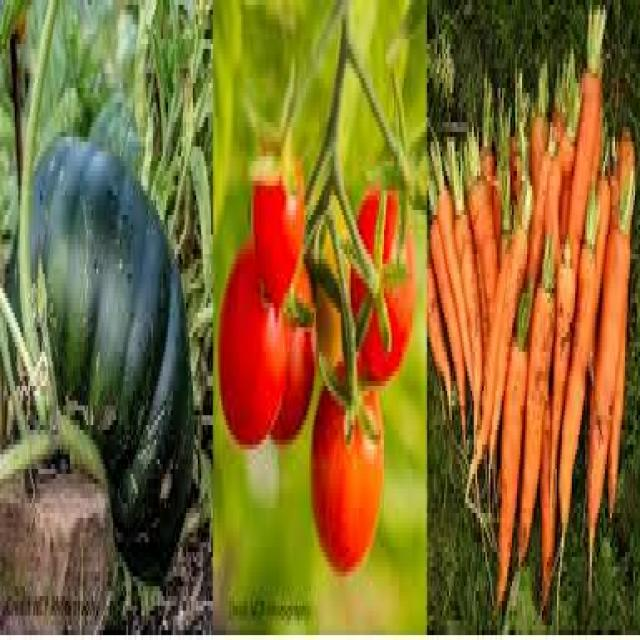organic waste: (8, 127, 191, 581), (585, 166, 638, 596), (309, 352, 381, 566), (216, 235, 286, 450), (464, 161, 508, 484), (486, 176, 530, 498), (559, 176, 595, 532), (349, 186, 414, 381), (514, 225, 552, 557), (494, 278, 530, 610), (426, 161, 467, 445), (429, 137, 472, 386), (446, 127, 478, 445), (606, 122, 632, 513), (298, 171, 348, 366), (268, 245, 314, 450), (567, 0, 602, 259), (251, 142, 303, 308), (459, 122, 497, 298), (584, 122, 608, 386), (550, 230, 572, 503), (528, 127, 562, 283), (426, 254, 450, 415), (538, 386, 554, 606), (555, 68, 580, 200), (527, 49, 549, 171), (550, 49, 574, 142), (508, 64, 528, 171), (488, 73, 508, 171), (545, 142, 562, 249), (477, 78, 494, 171)
